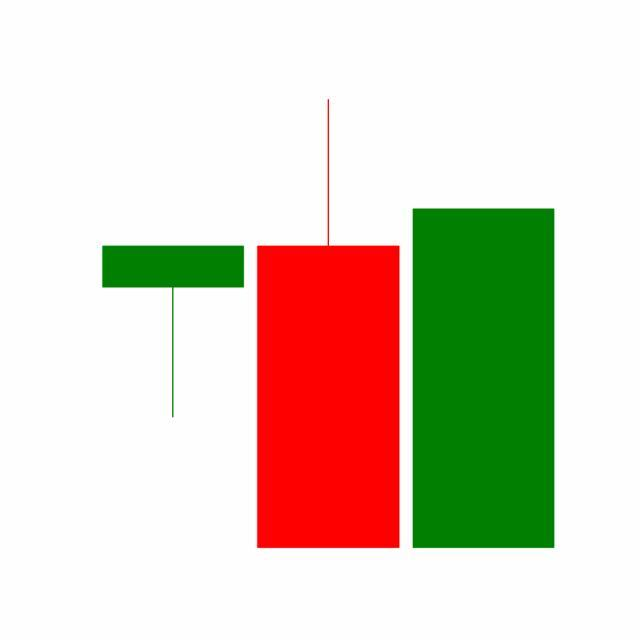Marubozu: (406, 206, 562, 552)
